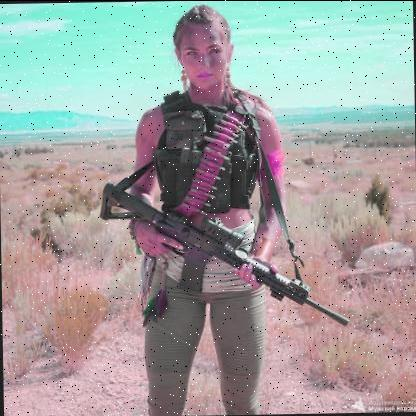rifle: (96, 176, 353, 336)
